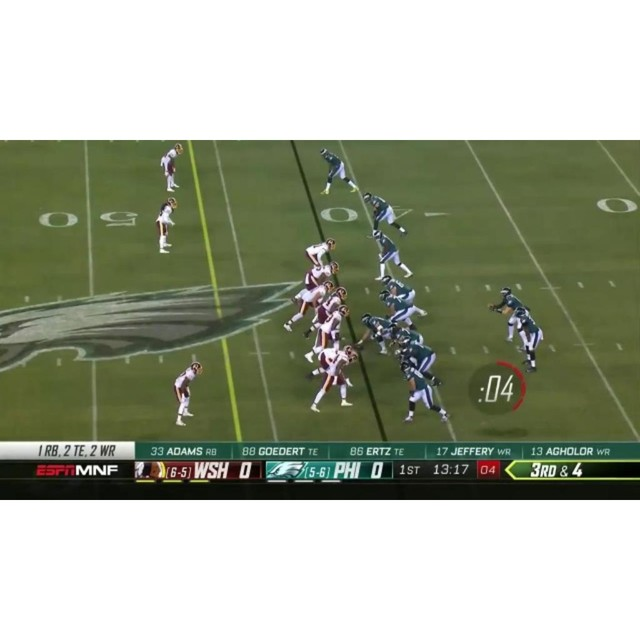american-football-player: (400, 358, 449, 424), (311, 345, 356, 411), (304, 304, 350, 364), (283, 280, 333, 332), (489, 286, 530, 346), (396, 337, 442, 387), (304, 287, 348, 339), (371, 228, 413, 280), (380, 274, 426, 317), (363, 192, 407, 236), (513, 307, 543, 371), (173, 362, 203, 426), (292, 261, 339, 301), (320, 147, 358, 194), (357, 312, 397, 354), (379, 290, 418, 329), (155, 198, 177, 253), (161, 143, 184, 191), (304, 236, 336, 269), (388, 325, 424, 350)
